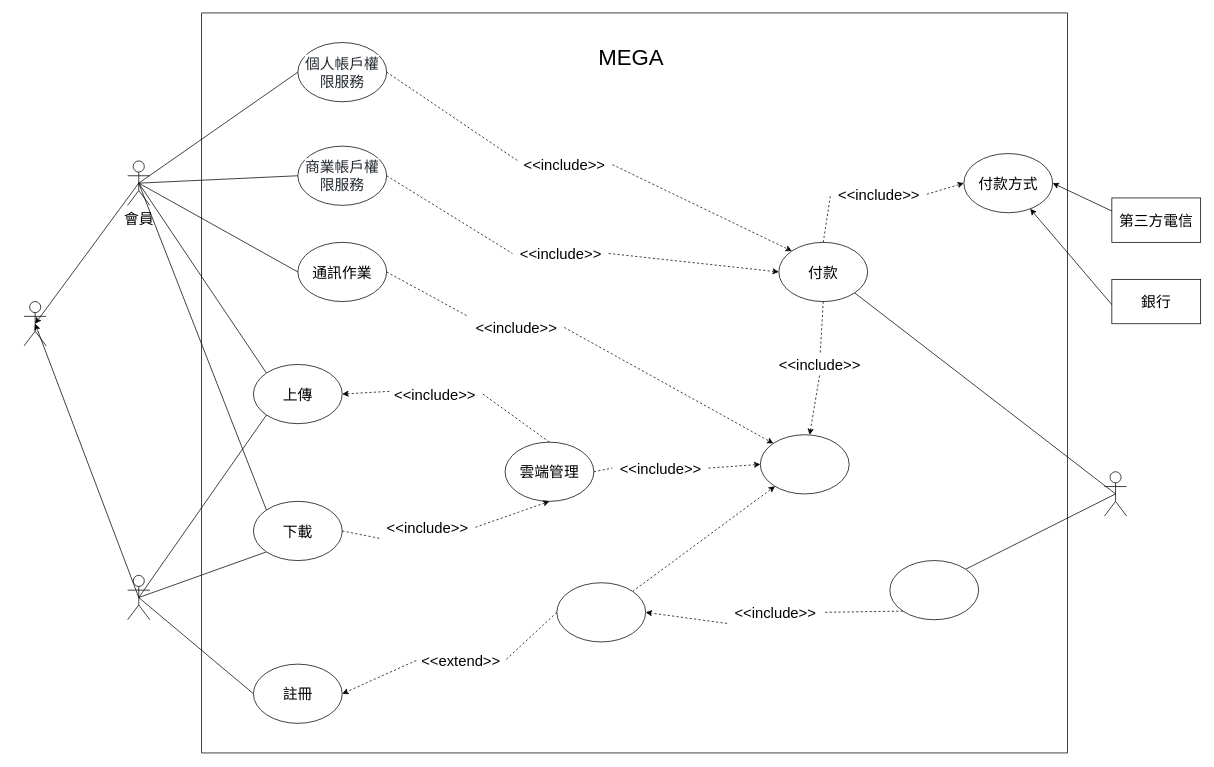
Some shapes in this 1214 by 767 pixel diagram are drawn without their labels. Each missing label, with the centre of its shape:
"帳號權限管理作業" belongs at pixel 934 590.
"瀏覽者" belongs at pixel 34 323.
"用戶帳戶管理" belongs at pixel 601 612.
"登入" belongs at pixel 804 464.
"系統" belongs at pixel 1115 493.
"非會員" belongs at pixel 138 597.
